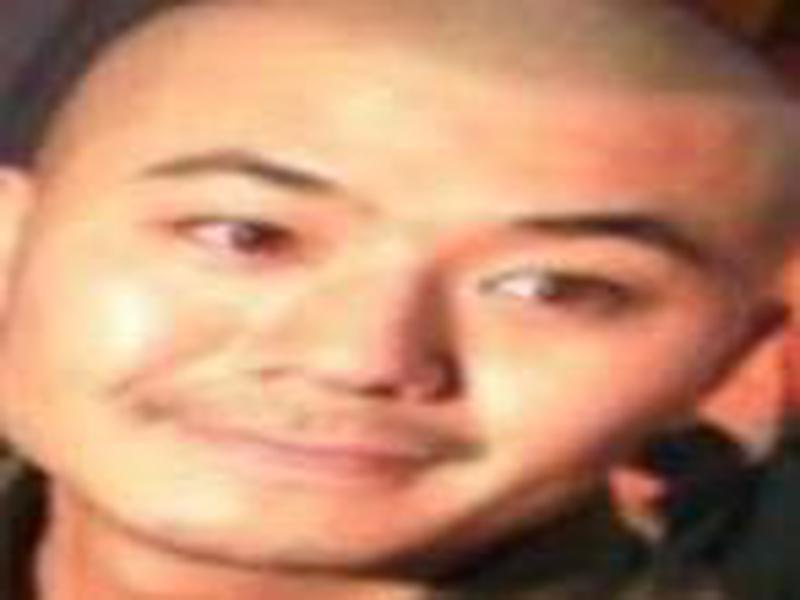without_mask: (12, 16, 759, 570)
